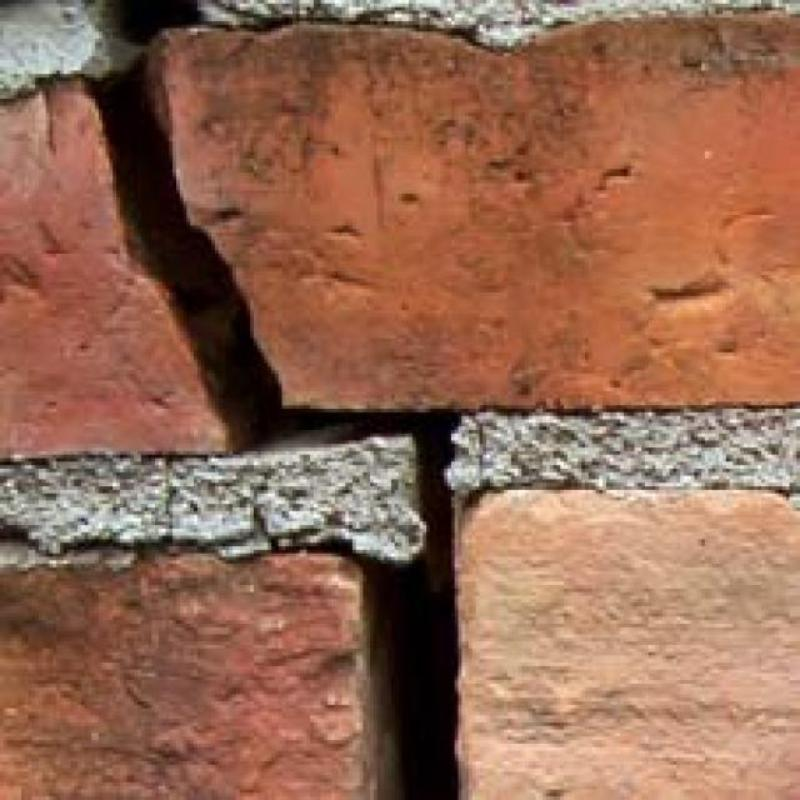crack: (86, 59, 459, 799), (105, 0, 200, 43)
